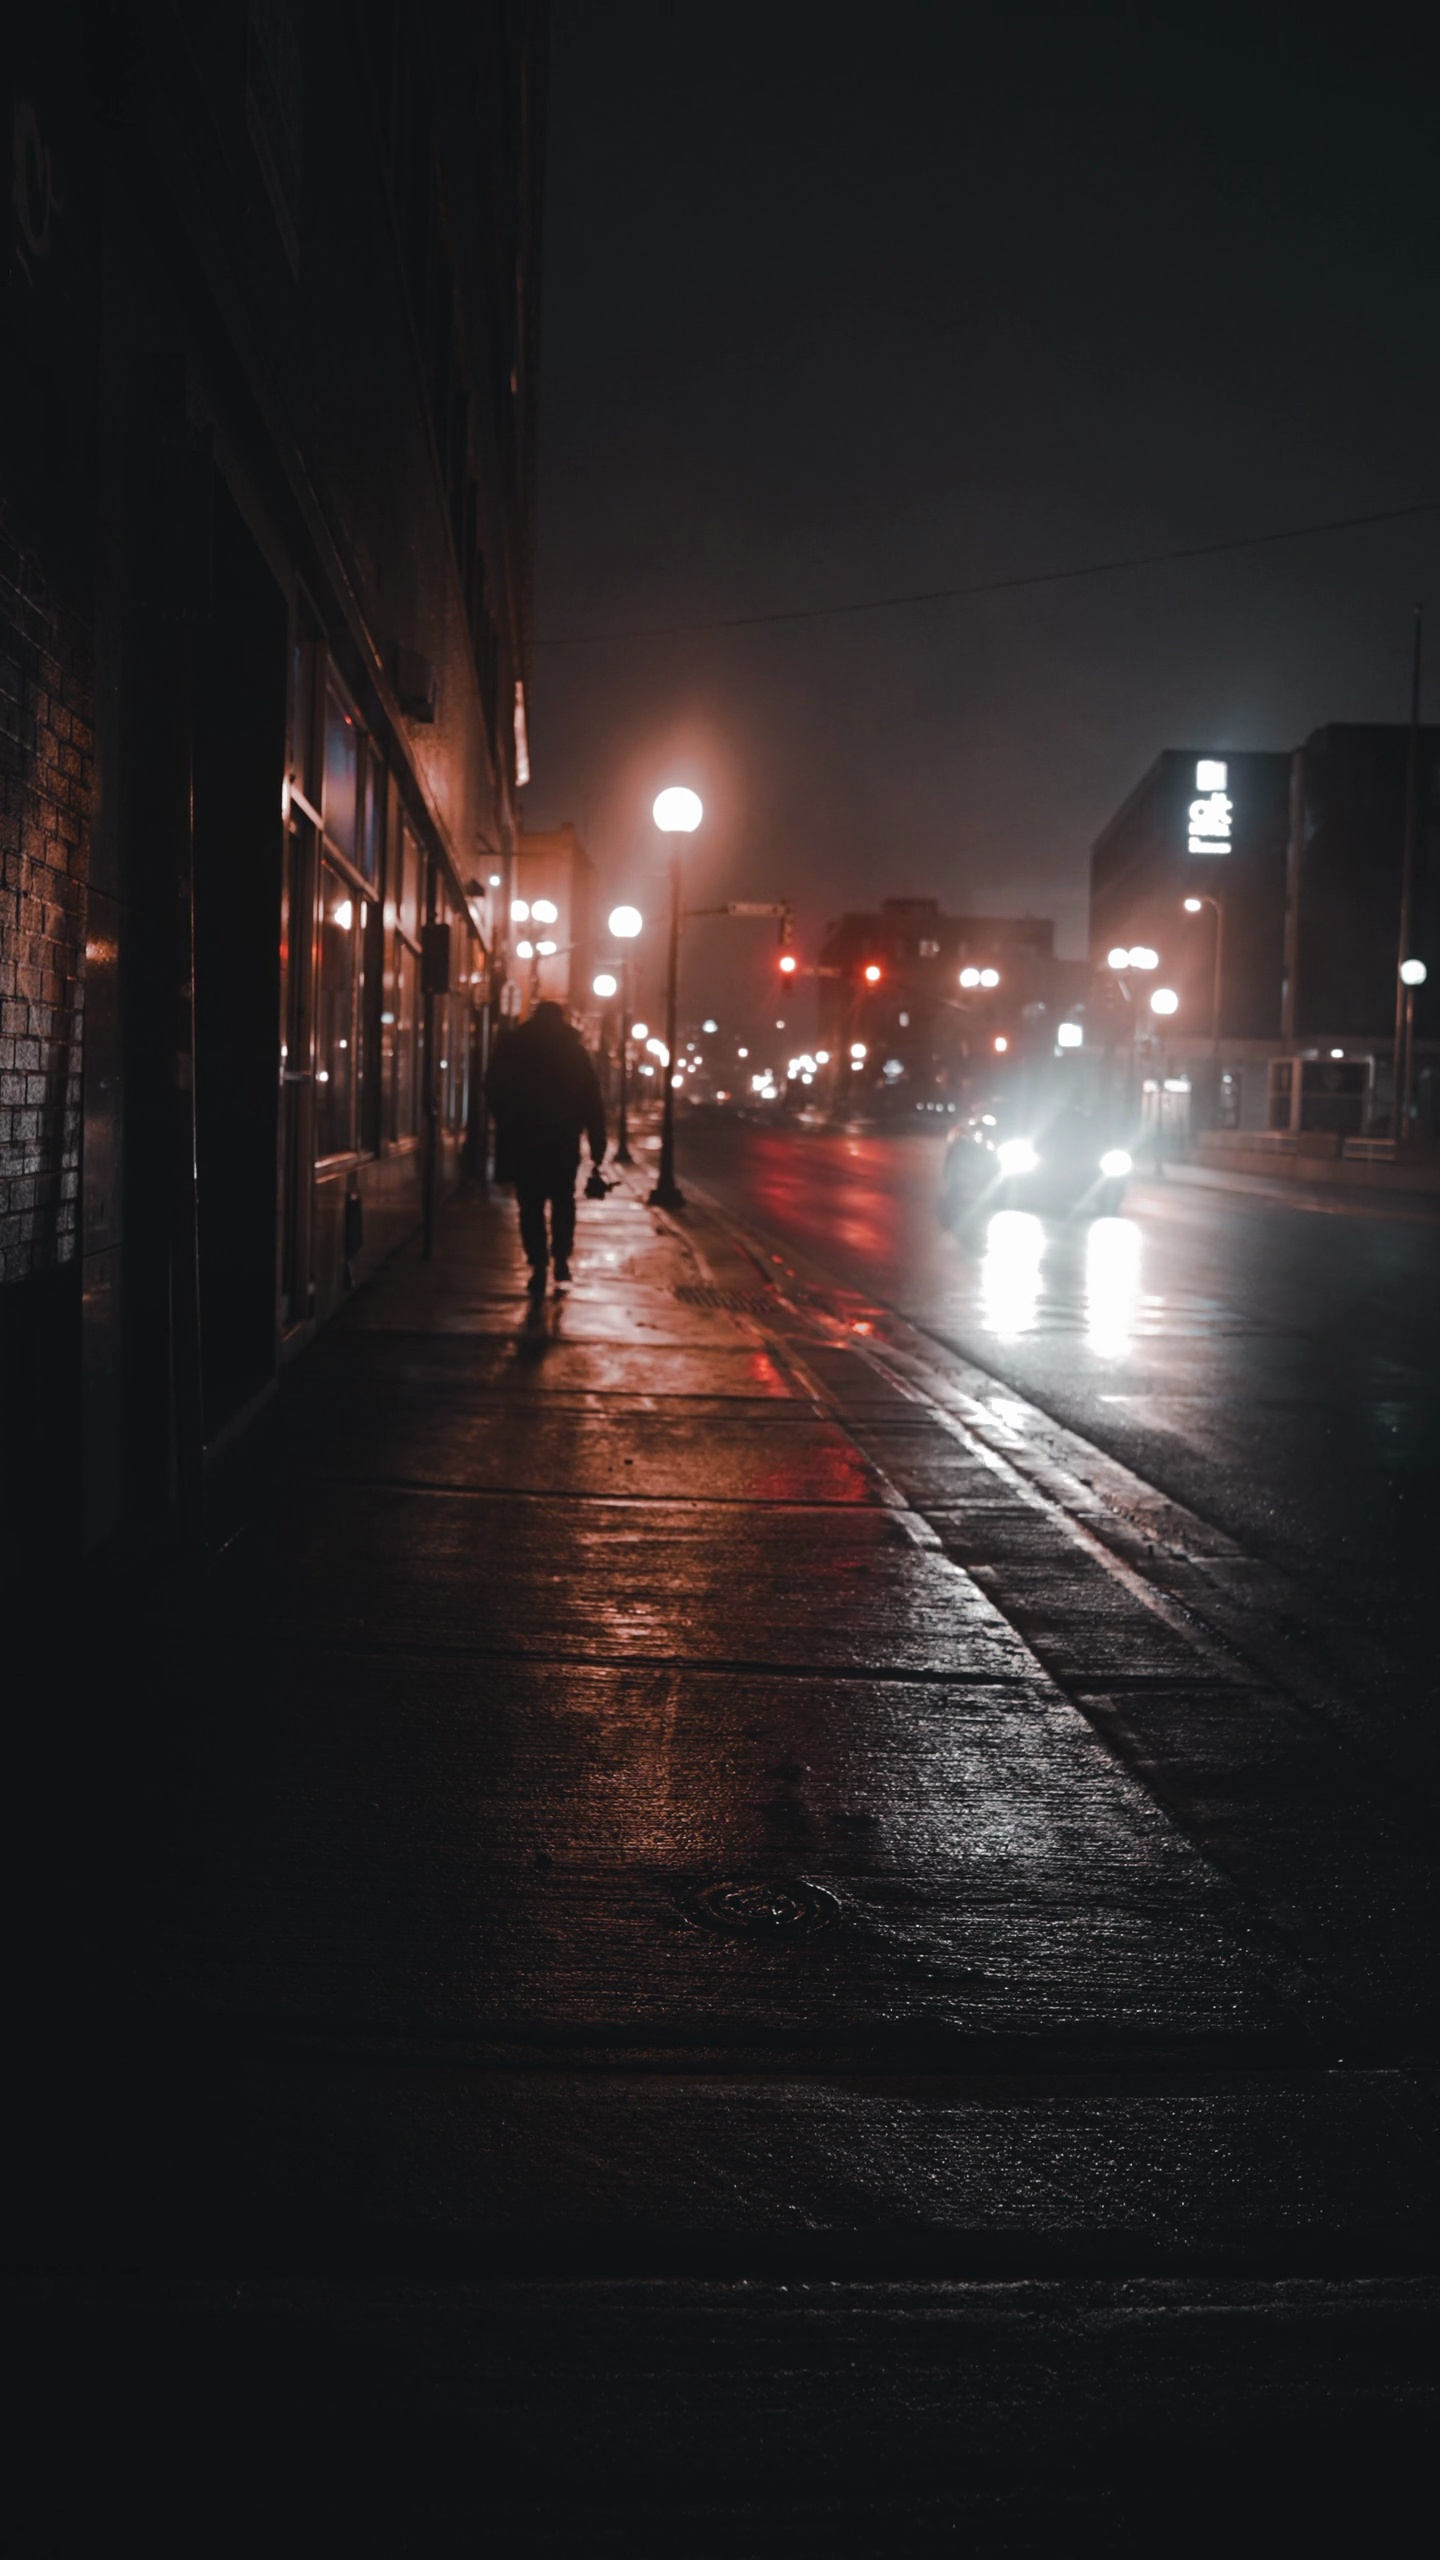person: (473, 992, 618, 1301)
